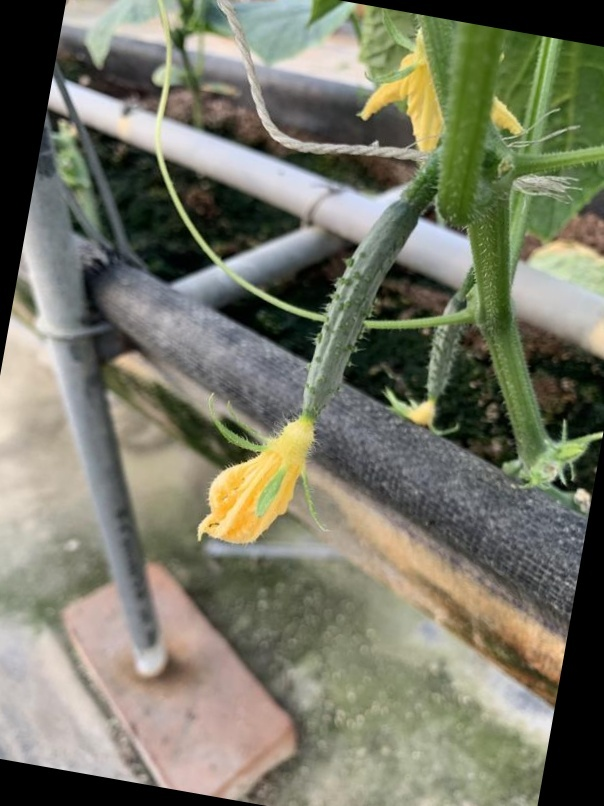bear: (206, 196, 425, 550)
